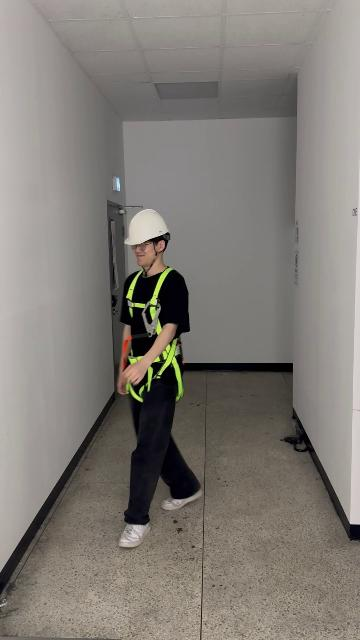helmet_worn: (123, 208, 172, 246)
shoe_not_worn: (160, 483, 203, 509), (117, 519, 151, 547)
vest_worn: (122, 270, 184, 403)
